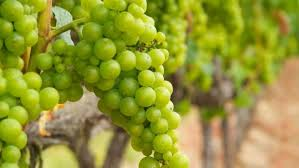Green grapes: (71, 2, 190, 168), (1, 5, 63, 168)
